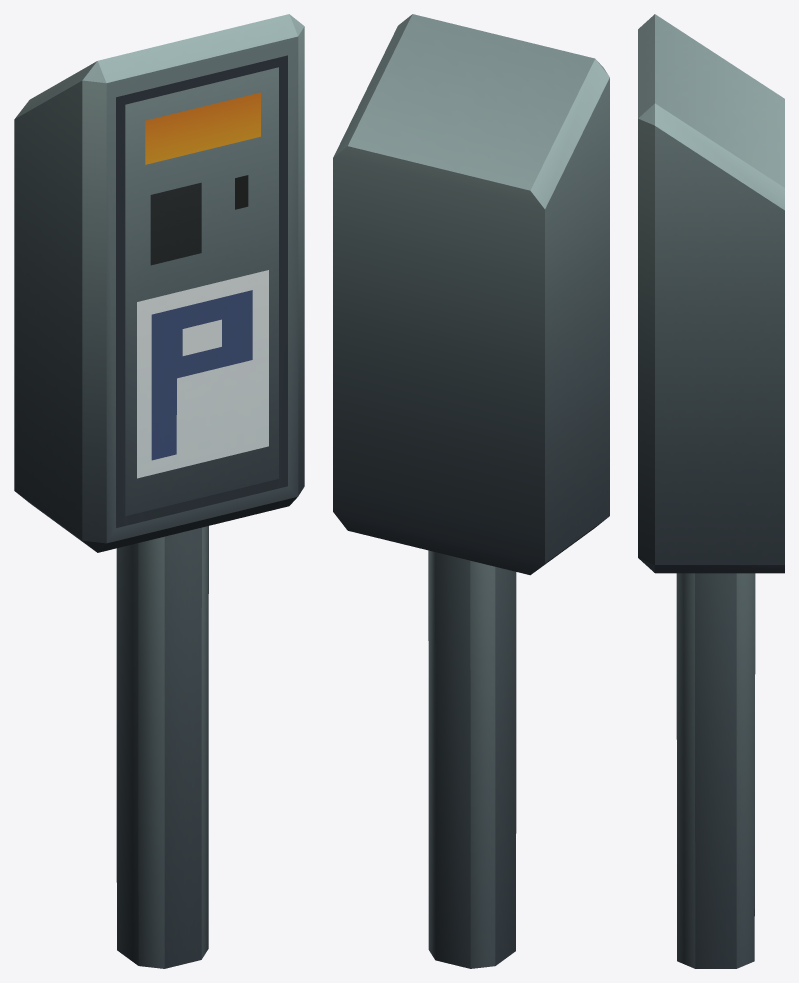
File: Parking_Meter.fbx
3 views of the same model, side by side, from view 1: azimuth 30°, elevation 25°; view 2: azimuth 150°, elevation 25°; view 3: azimuth 270°, elevation 25° (orthographic). The views are drawn at different scales.
Visible parts, largest first — view 1: Parking_Meter; view 2: Parking_Meter; view 3: Parking_Meter.
Part boxes in pixels (x1,y1,x2,y2): Parking_Meter: (14,14,304,968); Parking_Meter: (333,14,609,968); Parking_Meter: (638,14,784,968).
Size of the model in its own units: 33.72 by 136 by 20.2.
